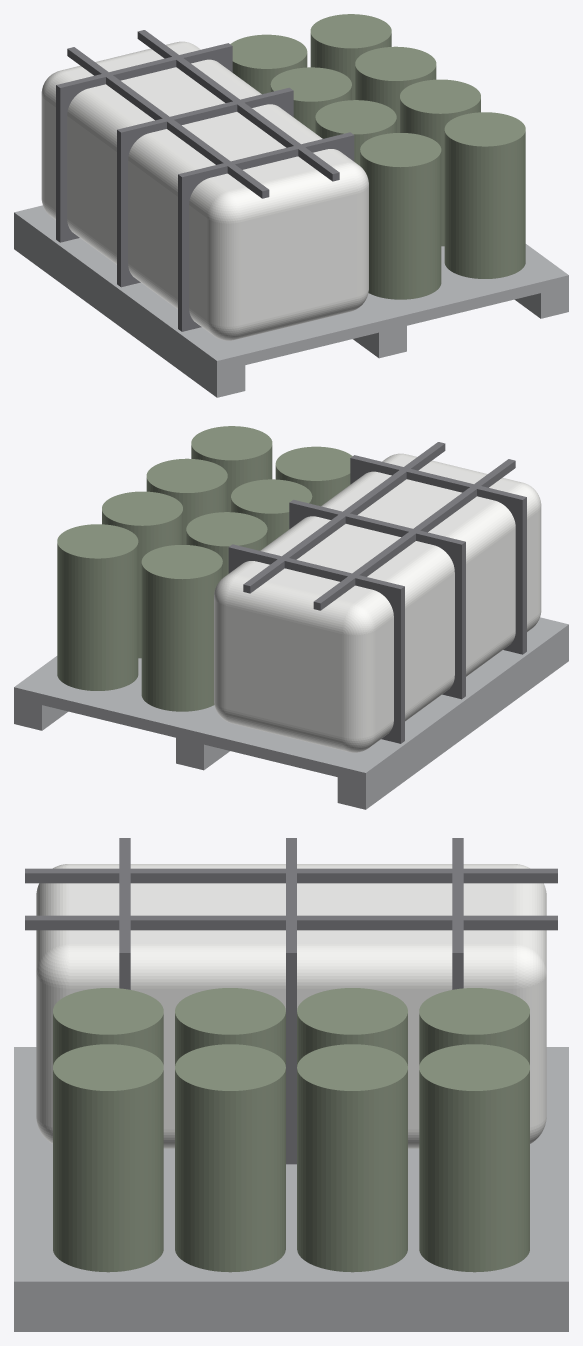
File: power13_consumables_pallet.glb
3 renders of one model, top to bottom at view 1: azimuth 30°, elevation 25°; view 2: azimuth 150°, elevation 25°; view 3: azimuth 270°, elevation 25°, orthographic. The views are drawn at different scales.
Parts seen in each view (by area): view 1: cargo_bags, food_canisters, pallet_deck, restraint_net; view 2: cargo_bags, food_canisters, pallet_deck, restraint_net; view 3: food_canisters, cargo_bags, pallet_deck, restraint_net.
Boxes of the visible parts, x1=… form: cargo_bags: x1=41, y1=41, x2=368, y2=340; food_canisters: x1=230, y1=14, x2=525, y2=299; pallet_deck: x1=14, y1=205, x2=568, y2=397; restraint_net: x1=56, y1=30, x2=354, y2=331; cargo_bags: x1=214, y1=453, x2=541, y2=752; food_canisters: x1=57, y1=426, x2=352, y2=711; pallet_deck: x1=14, y1=617, x2=568, y2=809; restraint_net: x1=228, y1=442, x2=526, y2=743; food_canisters: x1=53, y1=988, x2=529, y2=1272; cargo_bags: x1=36, y1=864, x2=546, y2=1148; pallet_deck: x1=14, y1=1047, x2=568, y2=1331; restraint_net: x1=25, y1=838, x2=557, y2=1164.
Size of the model in its own units: 1 by 0.52 by 1.
